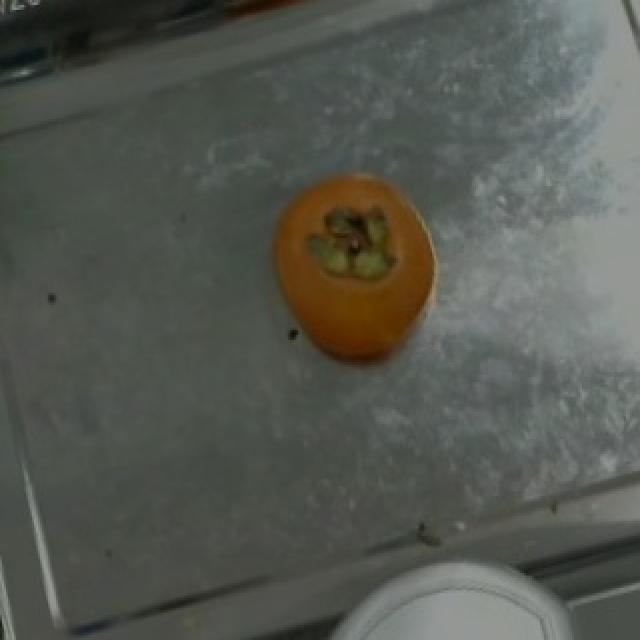Fruit: (244, 146, 460, 382)
